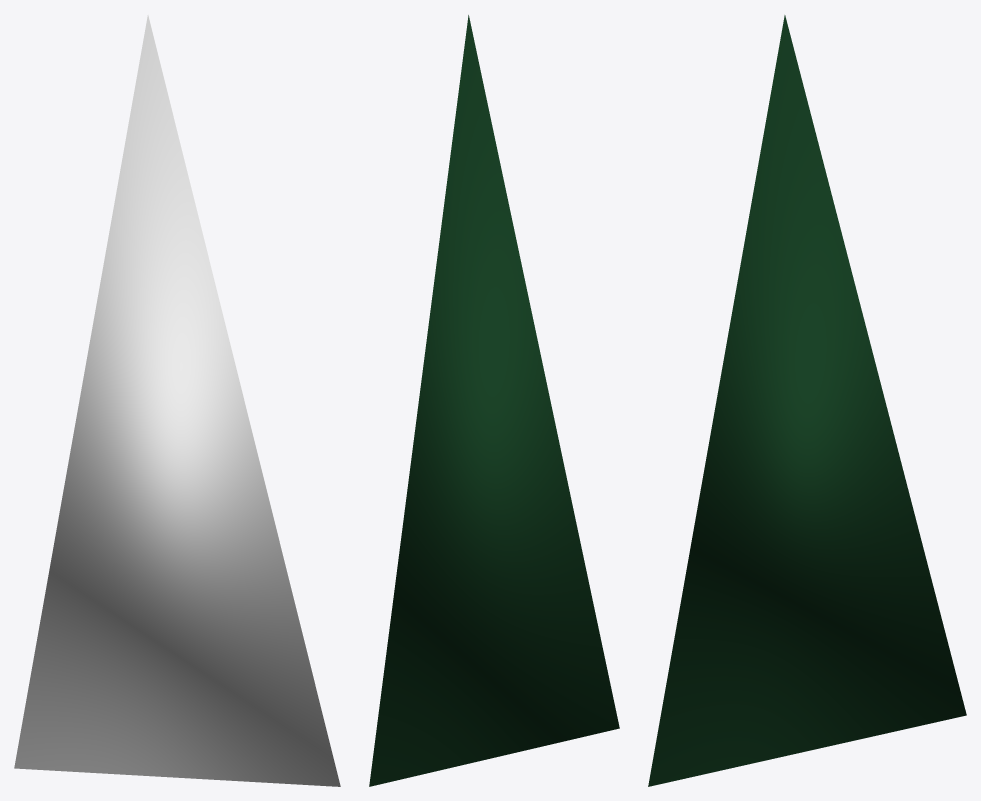
The model's file is whSpruce1Snow_distant.glb.
3 views of the same model, side by side, from view 1: azimuth 30°, elevation 25°; view 2: azimuth 150°, elevation 25°; view 3: azimuth 270°, elevation 25° (orthographic). The views are drawn at different scales.
Parts seen in each view (by area): view 1: Cube; view 2: Cube; view 3: Cube.
Part boxes in pixels (x1=…): Cube: x1=14, y1=15, x2=340, y2=786; Cube: x1=369, y1=15, x2=619, y2=786; Cube: x1=648, y1=15, x2=966, y2=786.
Size of the model in its own units: 6.8 by 18.31 by 7.38.
